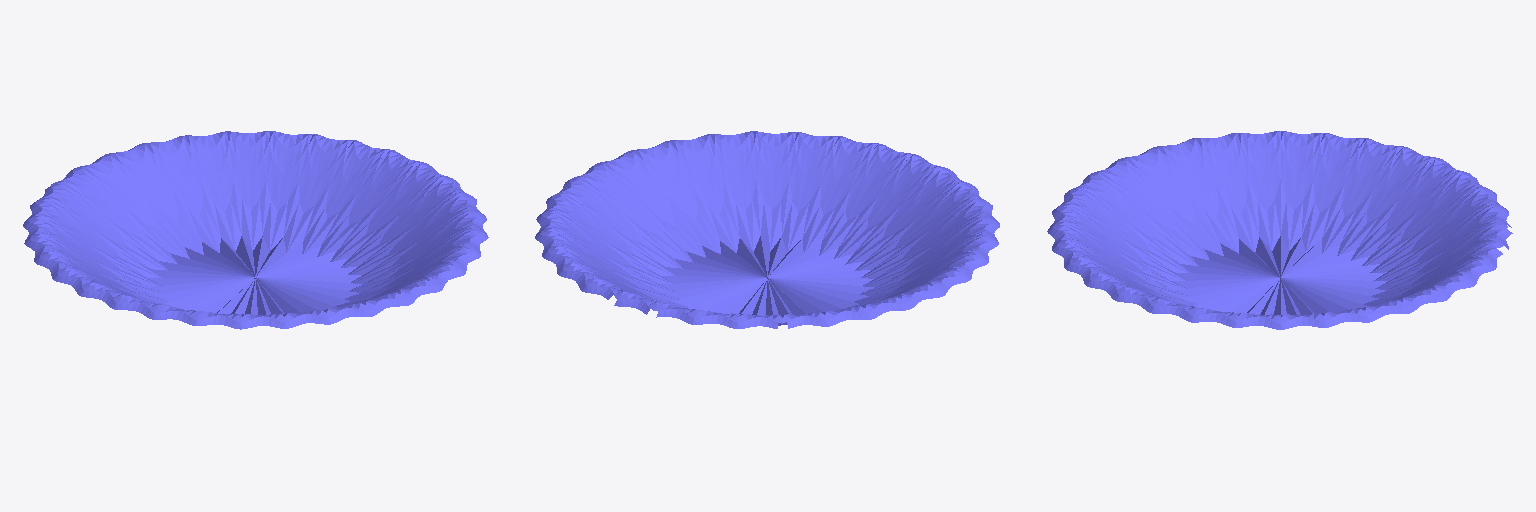
3 renders of one model, left to right at view 1: azimuth 30°, elevation 25°; view 2: azimuth 150°, elevation 25°; view 3: azimuth 270°, elevation 25°, orthographic.
Visible parts, largest first — view 1: Cone; view 2: Cone; view 3: Cone.
Part boxes in pixels (x1,y1,x2,y2): Cone: (23,131,488,329); Cone: (535,131,999,328); Cone: (1047,131,1512,329).
Size of the model in its own units: 2.55 by 0.3909 by 2.55.
1 materials, 1 textured.